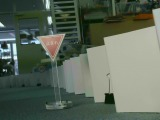stop: (37, 34, 65, 61)
